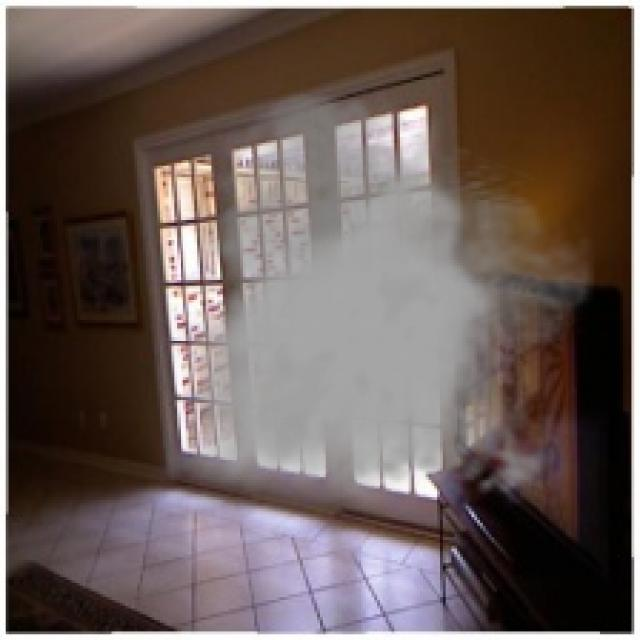smoke: (169, 89, 594, 508)
